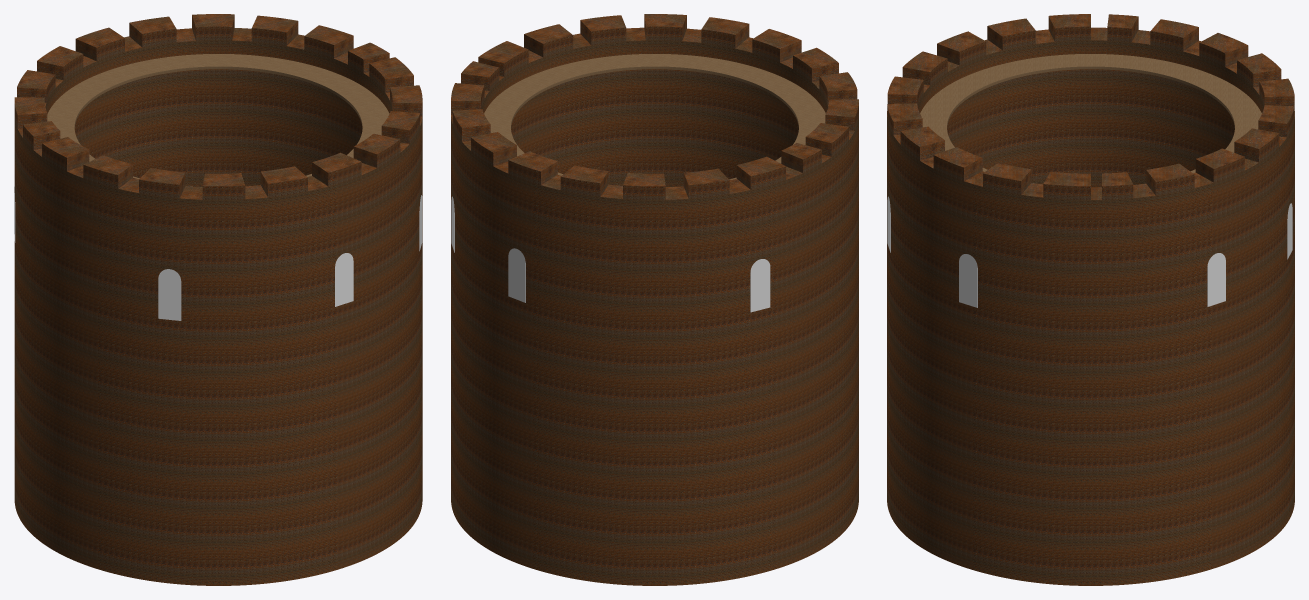
Rendered from kameneckaya-bashnya.glb.
The picture shows the model from 3 angles, left to right: view 1: azimuth 30°, elevation 25°; view 2: azimuth 150°, elevation 25°; view 3: azimuth 270°, elevation 25°; orthographic projection.
Parts seen in each view (by area): view 1: Geom3D (×2), Geom3D_; view 2: Geom3D (×2), Geom3D_; view 3: Geom3D (×2), Geom3D_.
Boxes of the visible parts, bbox=[...] form: Geom3D (×2): bbox=[14, 14, 422, 585]; Geom3D_: bbox=[14, 187, 422, 320]; Geom3D (×2): bbox=[451, 14, 858, 585]; Geom3D_: bbox=[451, 196, 770, 312]; Geom3D (×2): bbox=[887, 14, 1294, 585]; Geom3D_: bbox=[887, 196, 1292, 307].
Size of the model in its own units: 27.2 by 29.4 by 27.2.
2 materials, 2 textured.
